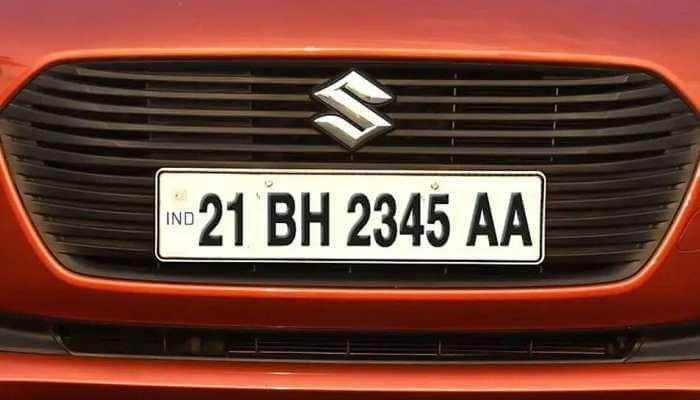Liscence Plate: (159, 169, 553, 266)
